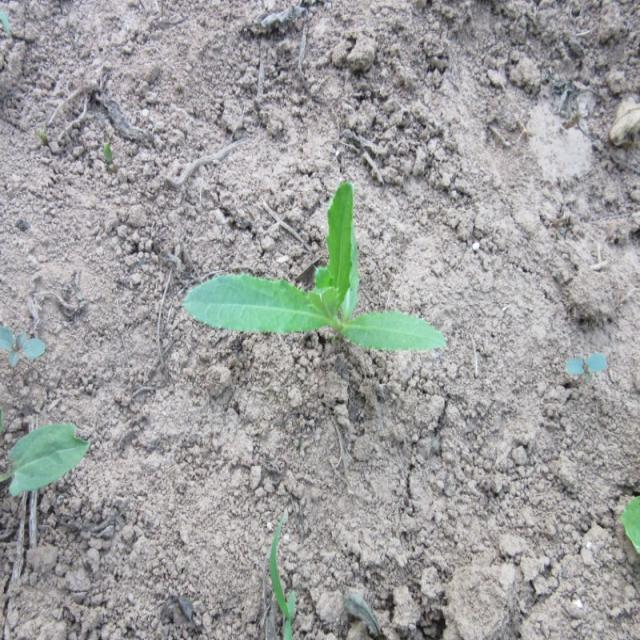cs: (184, 176, 446, 354)
